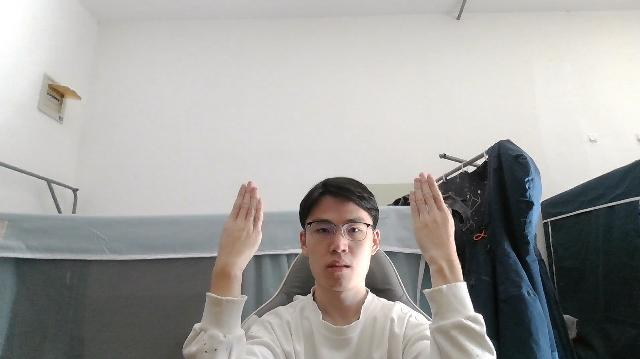four: (218, 179, 264, 267), (410, 172, 455, 257)
